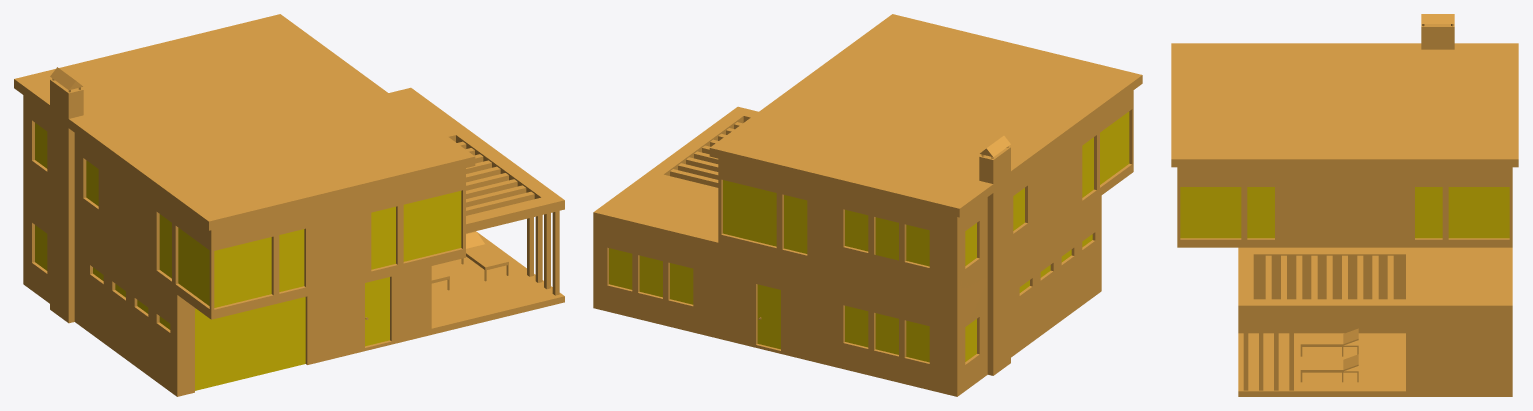
The model's file is Building_23.fbx.
The picture shows the model from 3 angles, left to right: view 1: azimuth 30°, elevation 25°; view 2: azimuth 150°, elevation 25°; view 3: azimuth 270°, elevation 25°; orthographic projection. The views are drawn at different scales.
Parts seen in each view (by area): view 1: building-house-modern; view 2: building-house-modern; view 3: building-house-modern.
Part boxes in pixels (box(x1,y1,x2,y2)): building-house-modern: box(14, 14, 564, 396); building-house-modern: box(593, 14, 1142, 396); building-house-modern: box(1171, 14, 1518, 396).
Size of the model in its own units: 7.5 by 4.39 by 6.43.
